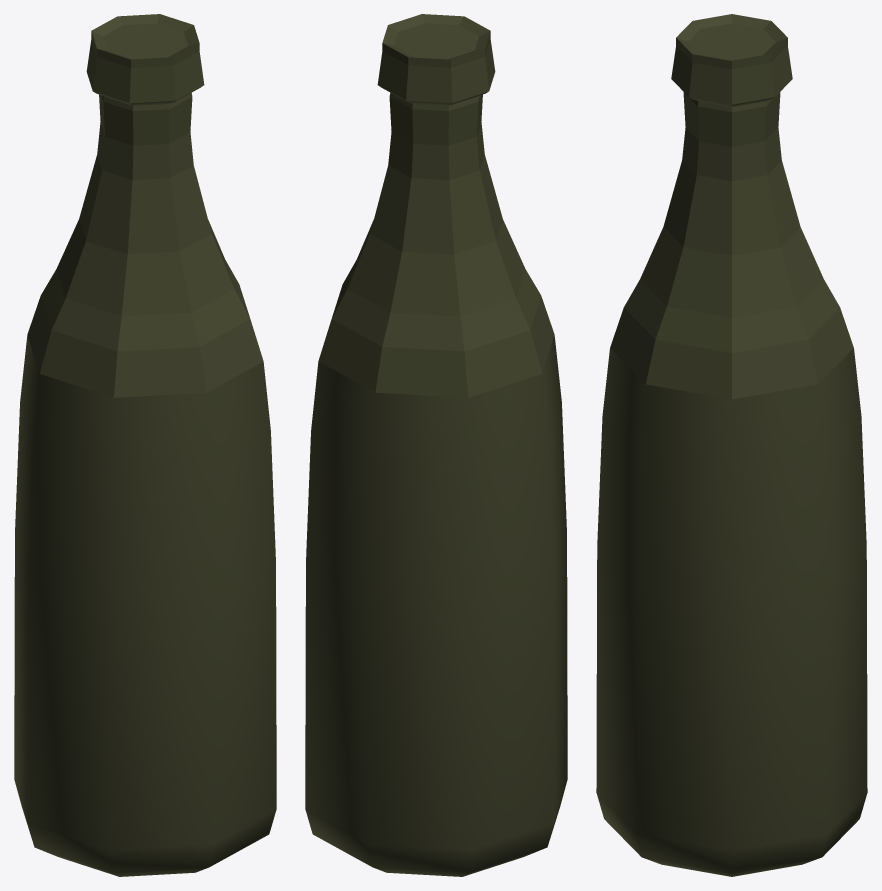
The model's file is SM_beer_glass_01.fbx.
3 views of the same model, side by side, from view 1: azimuth 30°, elevation 25°; view 2: azimuth 150°, elevation 25°; view 3: azimuth 270°, elevation 25° (orthographic).
Parts seen in each view (by area): view 1: beer_glass_01; view 2: beer_glass_01; view 3: beer_glass_01.
Boxes of the visible parts, x1,y1,x2,y2 form: beer_glass_01: (14, 14, 276, 876); beer_glass_01: (305, 14, 567, 876); beer_glass_01: (596, 14, 867, 876).
Bounding box in the file's own units: 18.38 × 59.67 × 18.38.
